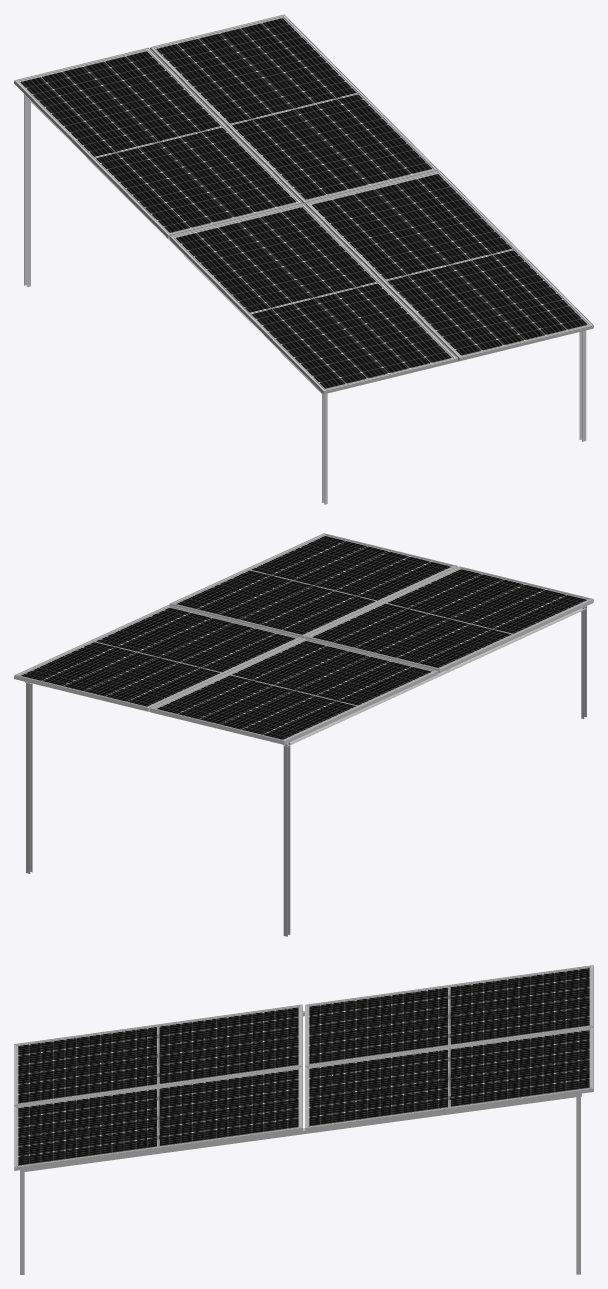
3 views of the same model, one above another, from view 1: azimuth 30°, elevation 25°; view 2: azimuth 150°, elevation 25°; view 3: azimuth 270°, elevation 25° (orthographic). The views are drawn at different scales.
Parts seen in each view (by area): view 1: 2KW SOLARPANEL; view 2: 2KW SOLARPANEL; view 3: 2KW SOLARPANEL.
Boxes of the visible parts, bbox=[...] form: 2KW SOLARPANEL: bbox=[14, 14, 593, 504]; 2KW SOLARPANEL: bbox=[14, 533, 593, 936]; 2KW SOLARPANEL: bbox=[14, 965, 593, 1274].
Bounding box in the file's own units: 2.28 × 1.63 × 4.53.
Materials: 1 (1 with a texture image).
